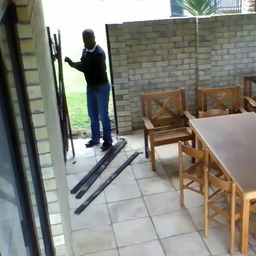person: (64, 28, 113, 151)
